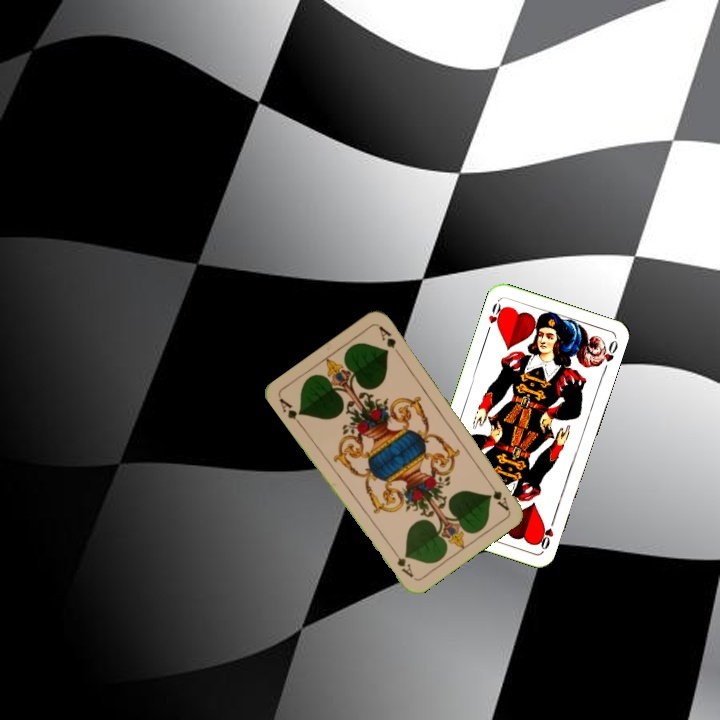GA: (483, 476, 512, 513), (275, 394, 305, 429)
HO: (483, 296, 507, 336), (535, 513, 558, 552)
